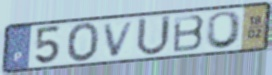5: (34, 23, 63, 66)
B: (172, 13, 207, 55)
O: (204, 9, 245, 50), (66, 21, 101, 64)
U: (134, 14, 172, 58)
V: (102, 19, 137, 59)
